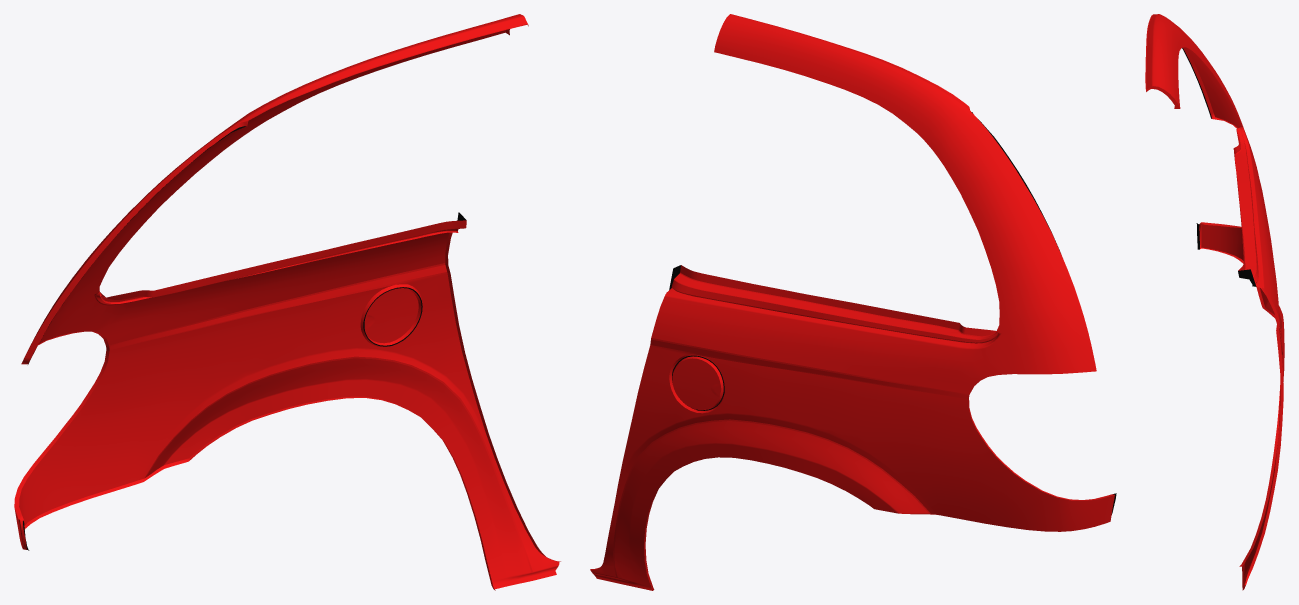
3 views of the same model, side by side, from view 1: azimuth 30°, elevation 25°; view 2: azimuth 150°, elevation 25°; view 3: azimuth 270°, elevation 25° (orthographic). The views are drawn at different scales.
Parts seen in each view (by area): view 1: N664_9A_381B_L_N664_9A_381B_L_1_DaS, N664_9A_381B_L_N664_9A_381B_L_1_DaS_E; view 2: N664_9A_381B_L_N664_9A_381B_L_1_DaS, N664_9A_381B_L_N664_9A_381B_L_1_DaS_E; view 3: N664_9A_381B_L_N664_9A_381B_L_1_DaS, N664_9A_381B_L_N664_9A_381B_L_1_DaS_E, N664_9A_381B_L_2_D_N664_9A_381B_L.
Part boxes in pixels (bbox=[...]): N664_9A_381B_L_N664_9A_381B_L_1_DaS: bbox=[14, 14, 559, 589]; N664_9A_381B_L_N664_9A_381B_L_1_DaS_E: bbox=[14, 24, 560, 590]; N664_9A_381B_L_N664_9A_381B_L_1_DaS: bbox=[590, 14, 1114, 590]; N664_9A_381B_L_N664_9A_381B_L_1_DaS_E: bbox=[590, 25, 1114, 590]; N664_9A_381B_L_N664_9A_381B_L_1_DaS: bbox=[1146, 14, 1284, 590]; N664_9A_381B_L_N664_9A_381B_L_1_DaS_E: bbox=[1145, 14, 1283, 585]; N664_9A_381B_L_2_D_N664_9A_381B_L: bbox=[1182, 48, 1256, 286].
Bounding box in the file's own units: 133 × 139 × 37.28.
